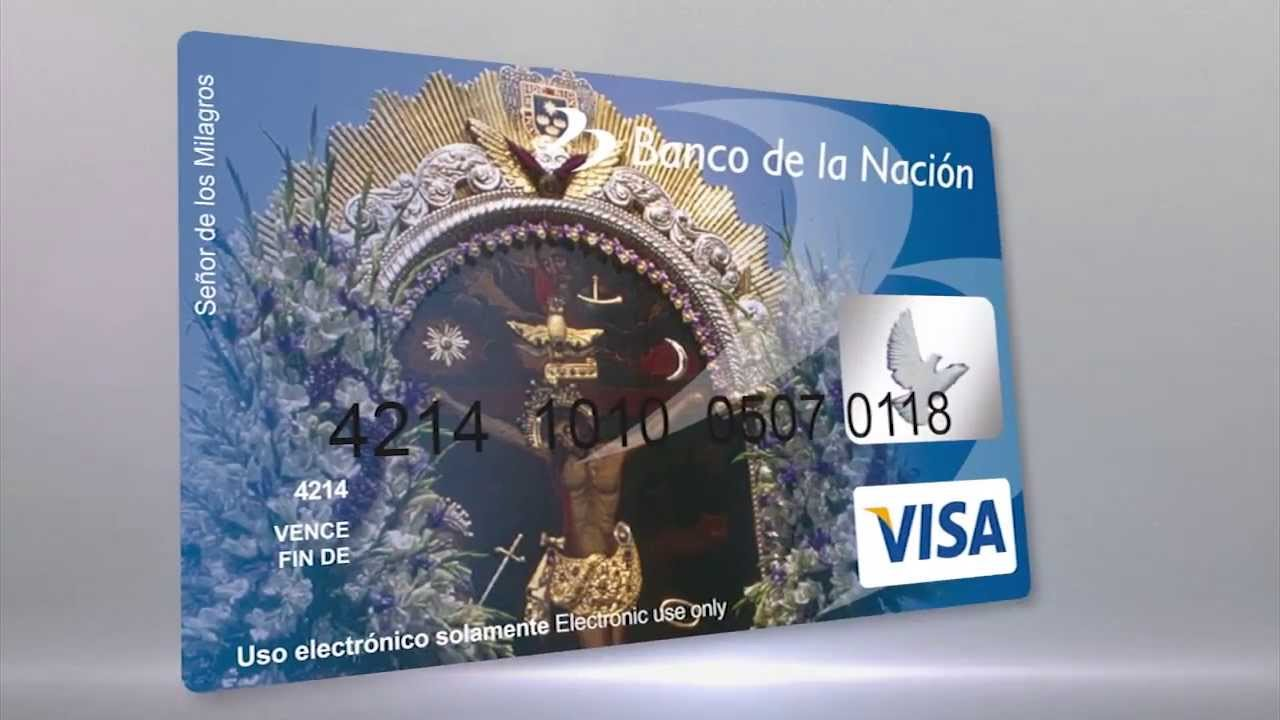tarjeta: (177, 31, 1033, 695)
